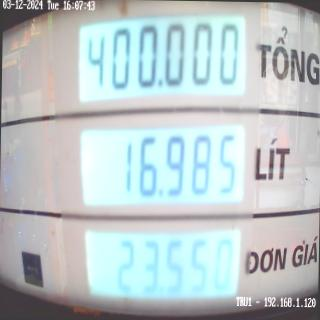screen: (68, 7, 252, 314)
